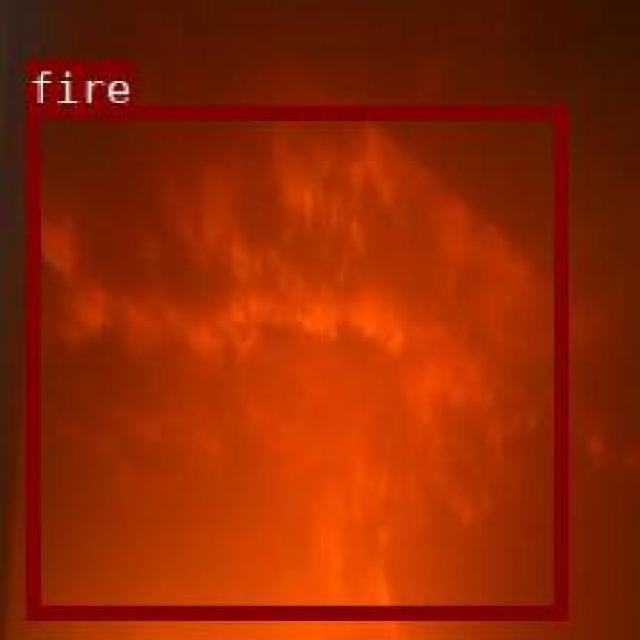Fire: (24, 104, 564, 616)
